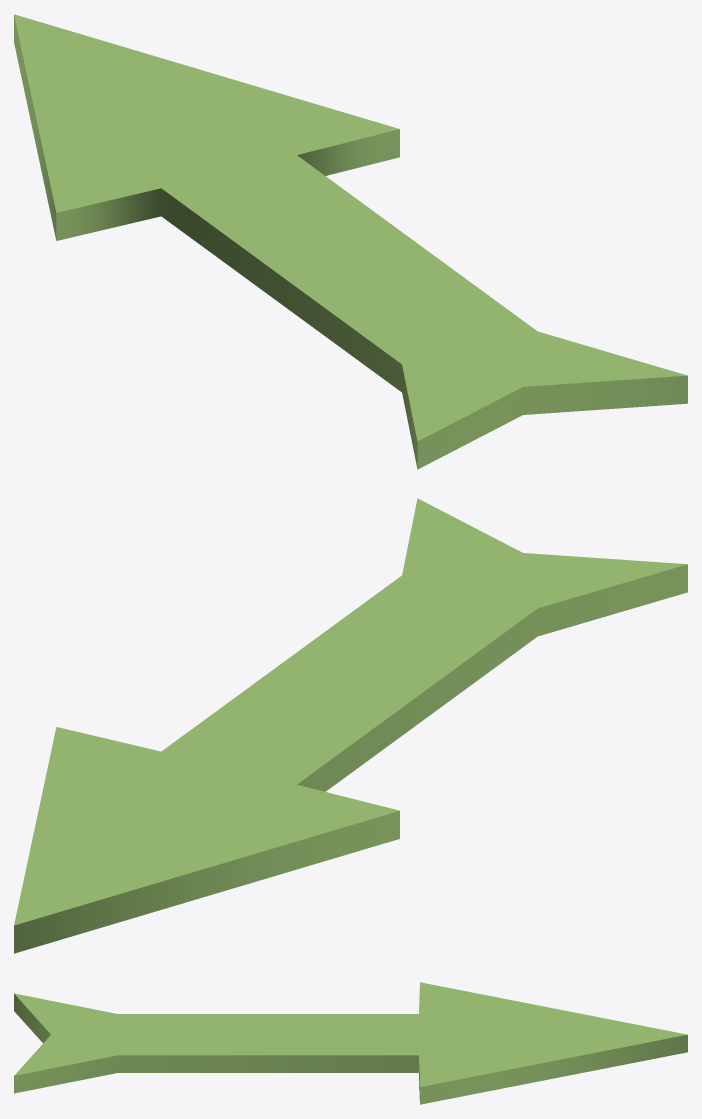
File: arrow.fbx
3 renders of one model, top to bottom at view 1: azimuth 30°, elevation 25°; view 2: azimuth 150°, elevation 25°; view 3: azimuth 270°, elevation 25°, orthographic. The views are drawn at different scales.
Visible parts, largest first — view 1: pCube1; view 2: pCube1; view 3: pCube1.
Part boxes in pixels (box(x1,y1,x2,y2)): pCube1: box(14, 14, 687, 469); pCube1: box(14, 498, 687, 953); pCube1: box(14, 982, 687, 1104).
Bounding box in the file's own units: 4.25 × 0.3327 × 11.55.
